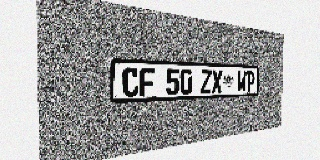0: (180, 69, 192, 95)
5: (166, 69, 179, 95)
C: (122, 67, 139, 97)
F: (139, 68, 155, 96)
P: (246, 71, 255, 92)
W: (237, 71, 246, 92)
X: (212, 70, 222, 93)
Z: (200, 70, 212, 94)
